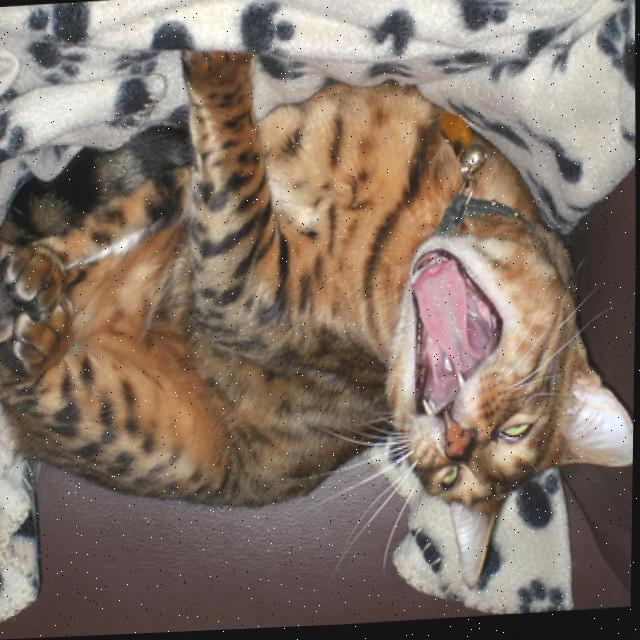Bengal: (0, 12, 640, 625)
